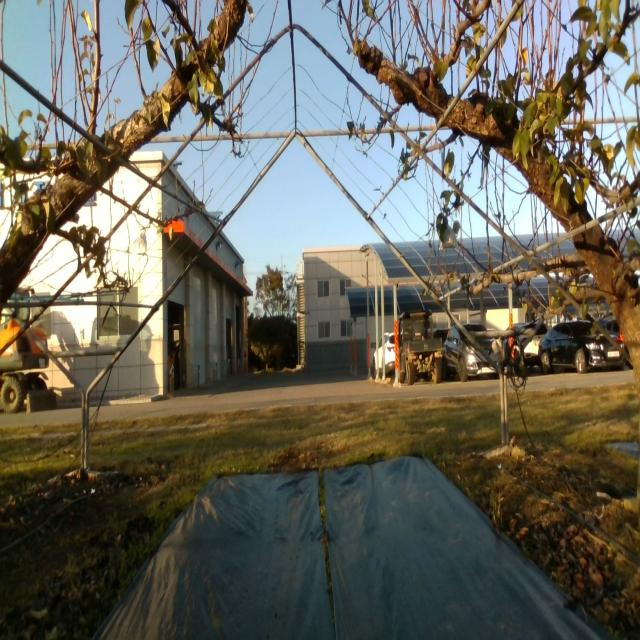pearbags: (439, 224, 460, 250), (134, 231, 147, 257)
